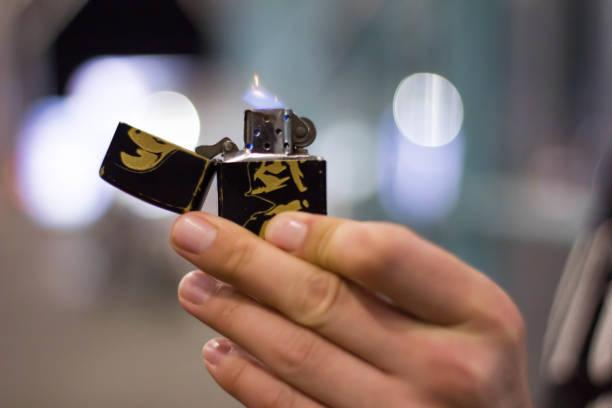Fire: (242, 69, 288, 110)
